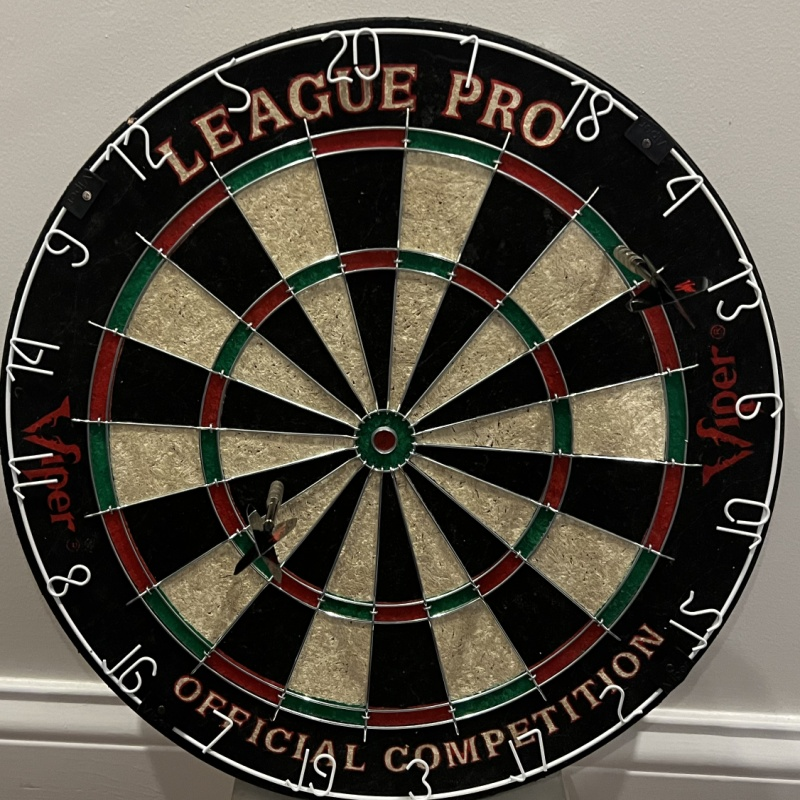dart: (606, 237, 634, 261), (266, 476, 288, 503)
eleven: (10, 448, 59, 499)
six: (736, 392, 783, 419)
three: (405, 758, 433, 798)
twenty: (322, 28, 382, 85)
